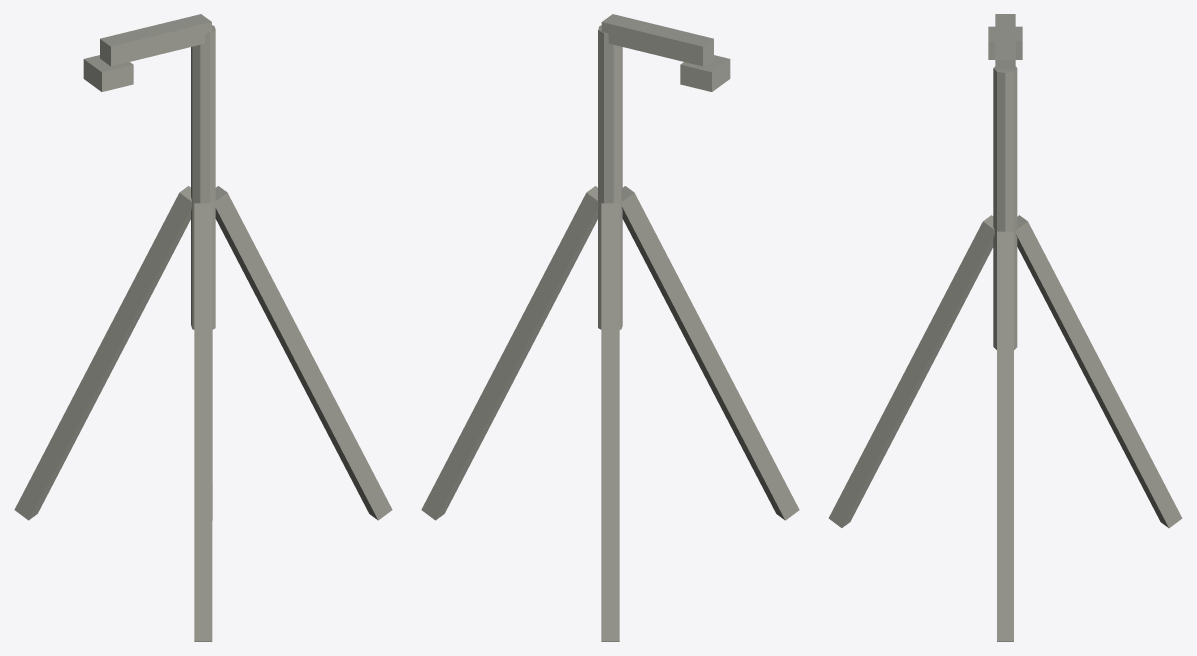
File: SM_PosteFoco_v2_Tripode_LOD0.fbx
3 views of the same model, side by side, from view 1: azimuth 30°, elevation 25°; view 2: azimuth 150°, elevation 25°; view 3: azimuth 270°, elevation 25° (orthographic). The views are drawn at different scales.
Visible parts, largest first — view 1: SM_poste_foco_v2_LOD0; view 2: SM_poste_foco_v2_LOD0; view 3: SM_poste_foco_v2_LOD0.
Boxes of the visible parts, x1=… form: SM_poste_foco_v2_LOD0: x1=14, y1=14, x2=392, y2=641; SM_poste_foco_v2_LOD0: x1=421, y1=14, x2=799, y2=641; SM_poste_foco_v2_LOD0: x1=828, y1=14, x2=1182, y2=641.
Bounding box in the file's own units: 0.9335 × 1.63 × 1.04.
